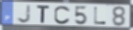5: (74, 5, 89, 25)
8: (111, 5, 127, 27)
C: (54, 5, 72, 25)
J: (17, 4, 32, 24)
L: (93, 7, 107, 25)
T: (36, 5, 51, 24)
